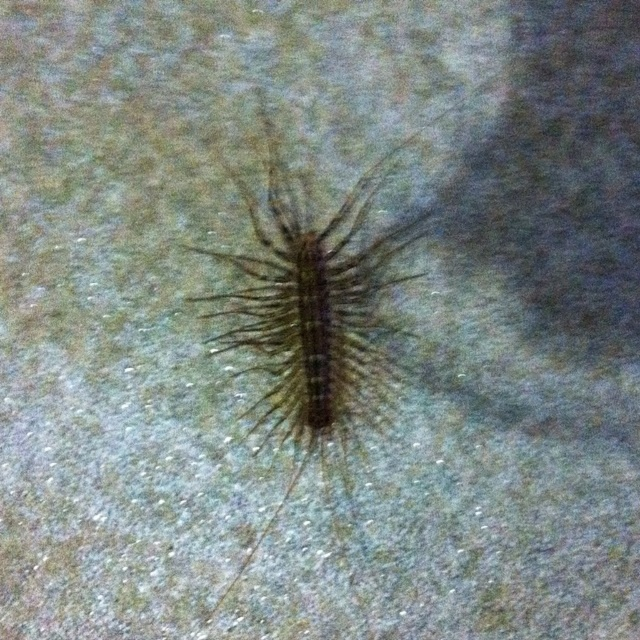Centipede: (199, 76, 486, 639)
